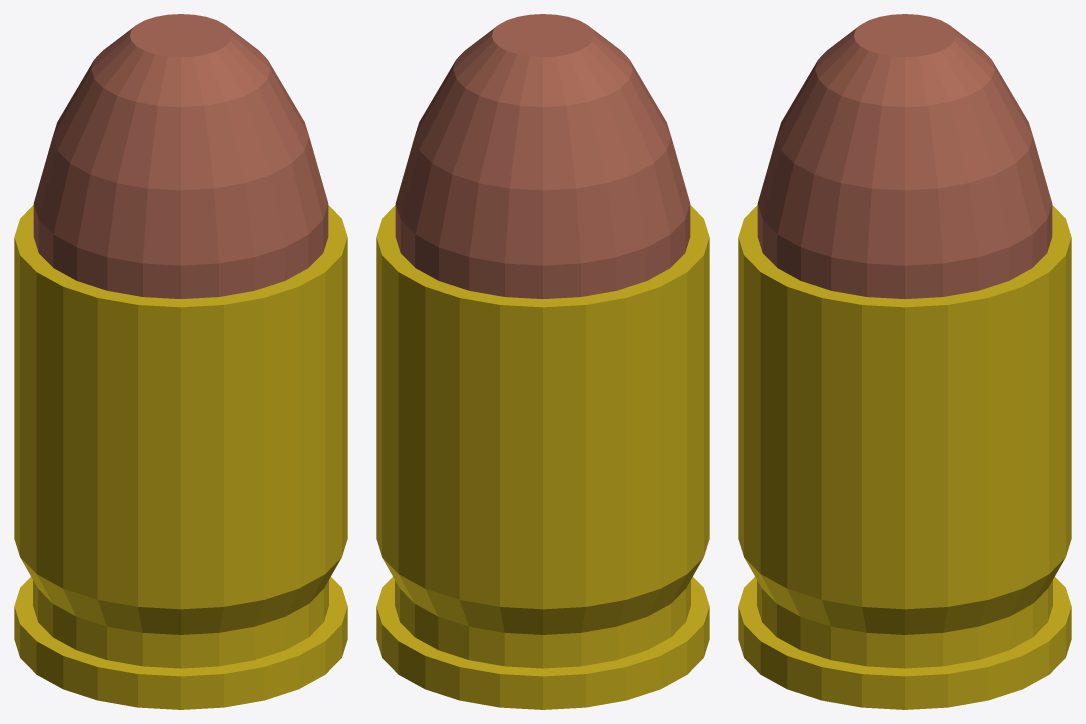
The model's file is ammo_pistol.glb.
The picture shows the model from 3 angles, left to right: view 1: azimuth 30°, elevation 25°; view 2: azimuth 150°, elevation 25°; view 3: azimuth 270°, elevation 25°; orthographic projection.
Visible parts, largest first — view 1: Mesh1 Group2 Group1 Model, Mesh2 Group3 Group1 Model; view 2: Mesh1 Group2 Group1 Model, Mesh2 Group3 Group1 Model; view 3: Mesh1 Group2 Group1 Model, Mesh2 Group3 Group1 Model.
Boxes of the visible parts, x1,y1,x2,y2 form: Mesh1 Group2 Group1 Model: (14, 205, 347, 709); Mesh2 Group3 Group1 Model: (33, 14, 328, 298); Mesh1 Group2 Group1 Model: (376, 205, 709, 709); Mesh2 Group3 Group1 Model: (395, 14, 690, 298); Mesh1 Group2 Group1 Model: (738, 205, 1071, 709); Mesh2 Group3 Group1 Model: (757, 14, 1052, 298).
Size of the model in its own units: 0.0054 by 0.0108 by 0.0054.
